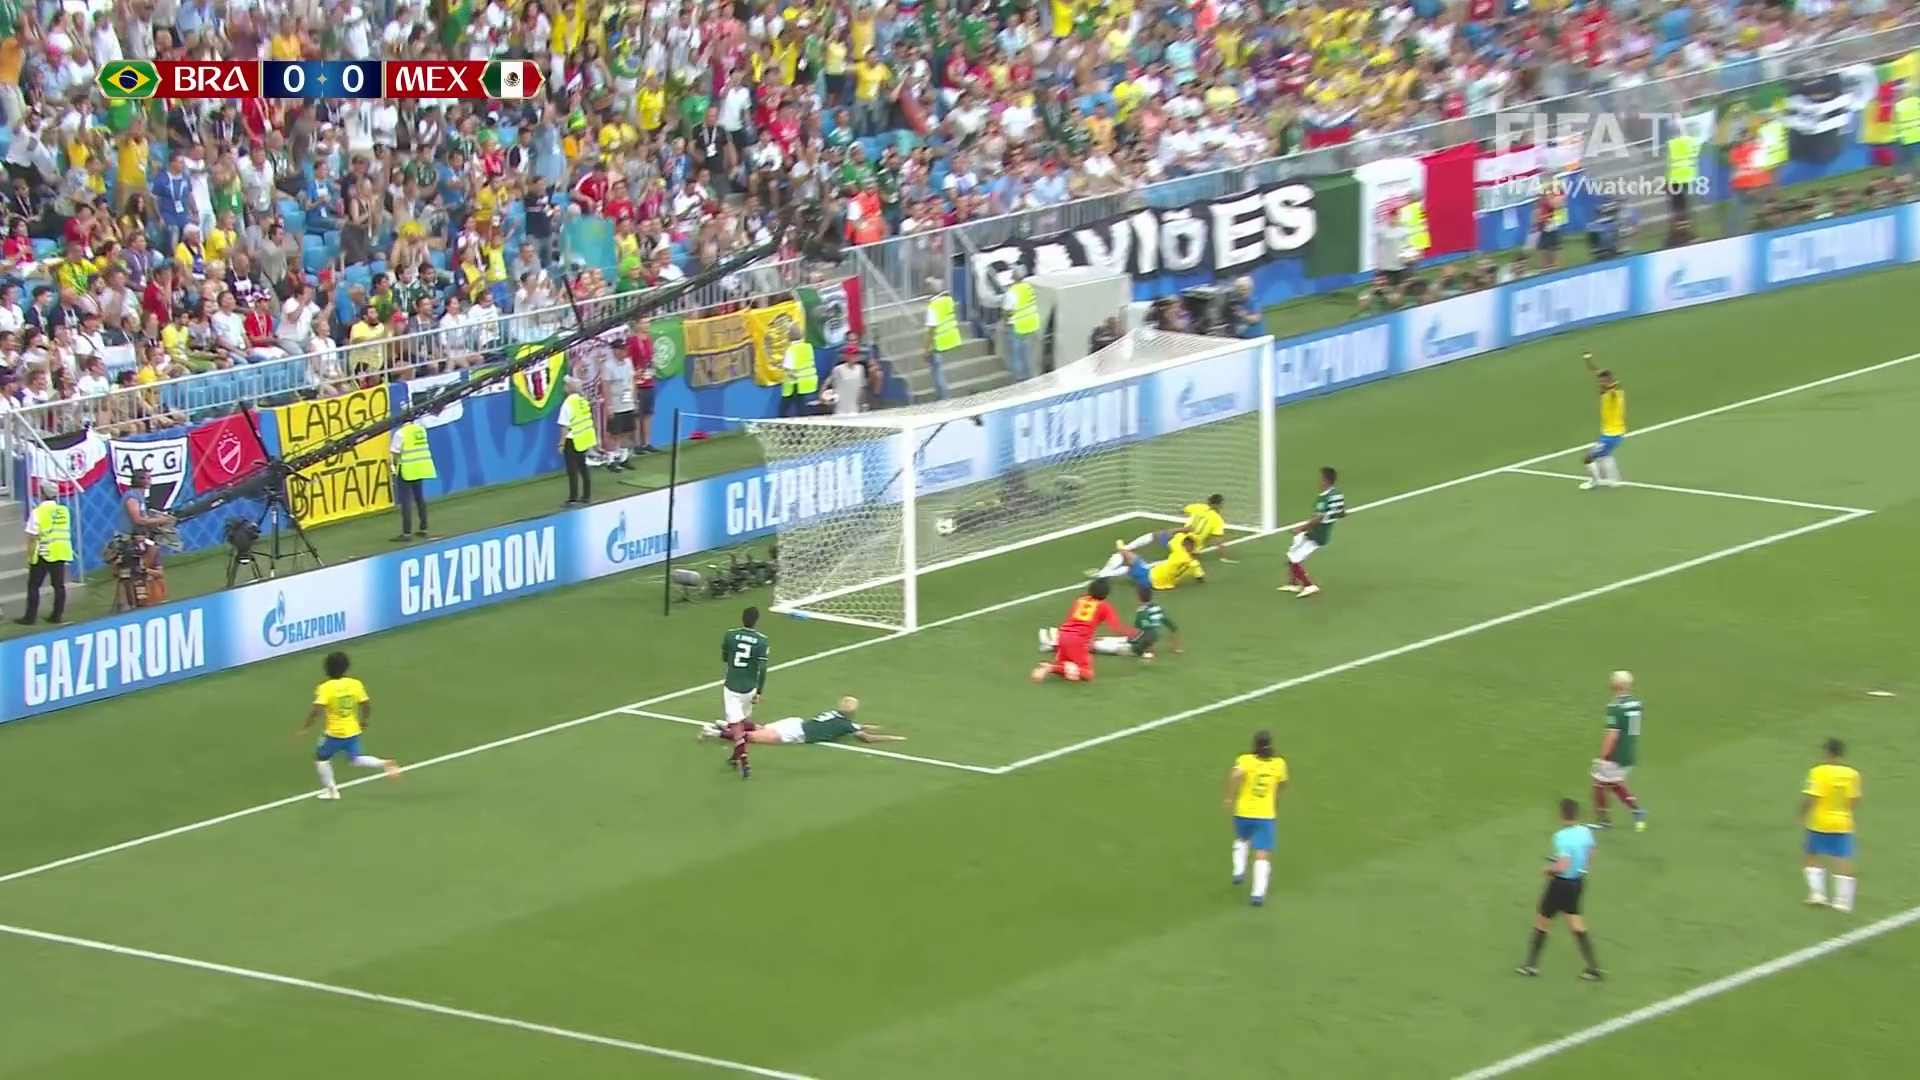ball: (936, 519, 954, 535)
person: (300, 652, 401, 800), (1222, 730, 1289, 889), (1041, 585, 1184, 657), (1804, 738, 1860, 910), (1088, 495, 1233, 559), (702, 698, 904, 742), (1592, 670, 1647, 833), (1279, 470, 1340, 596), (722, 606, 768, 775), (1043, 580, 1108, 683), (1579, 359, 1626, 491), (1115, 538, 1205, 586)
